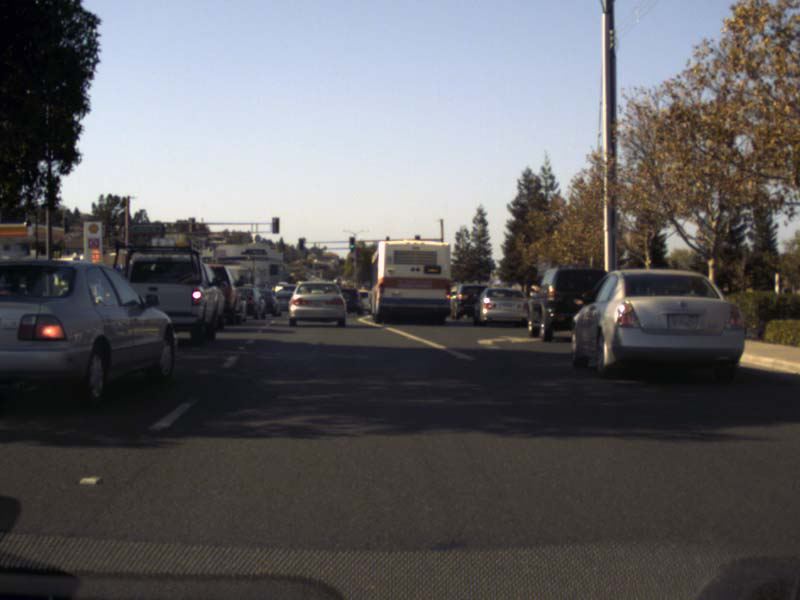Green: (349, 236, 354, 249)
